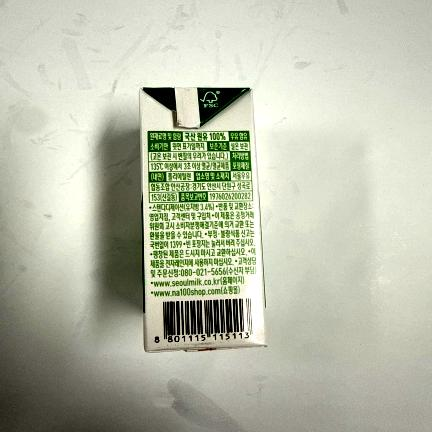milk_green: (141, 87, 267, 351)
